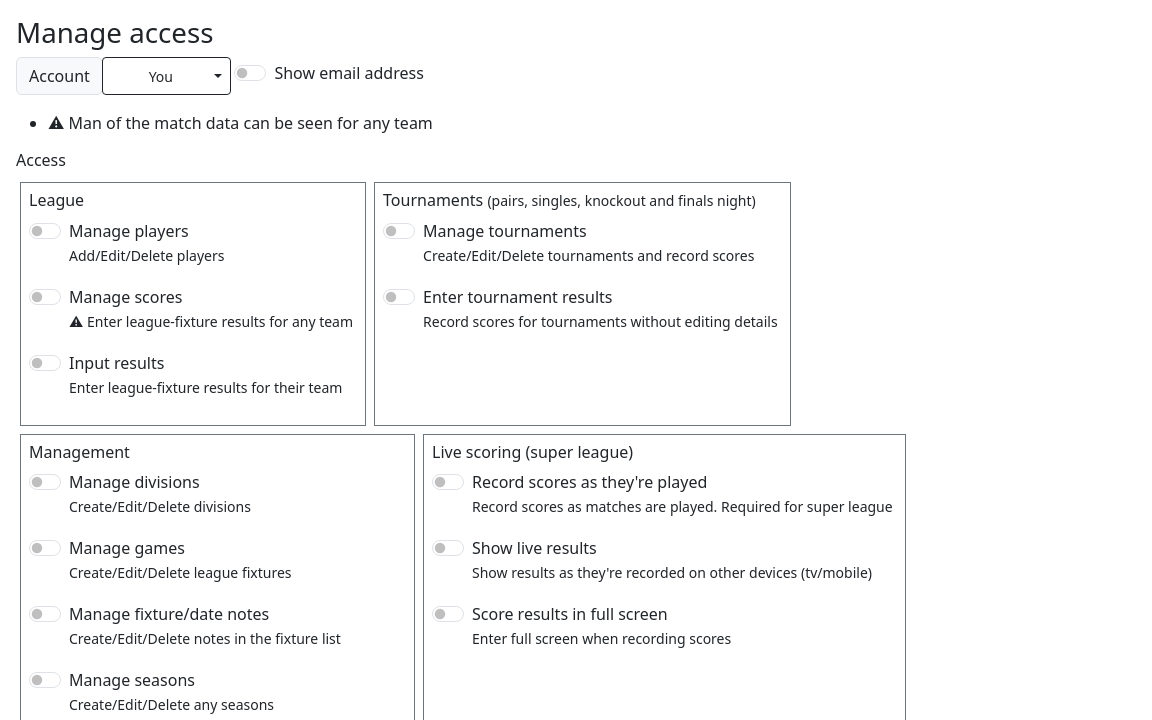
Test: UserAdmin › renders user email addresses
Click the checkbox with id "showEmailAddress" at (250, 73), box [234, 65, 266, 81]
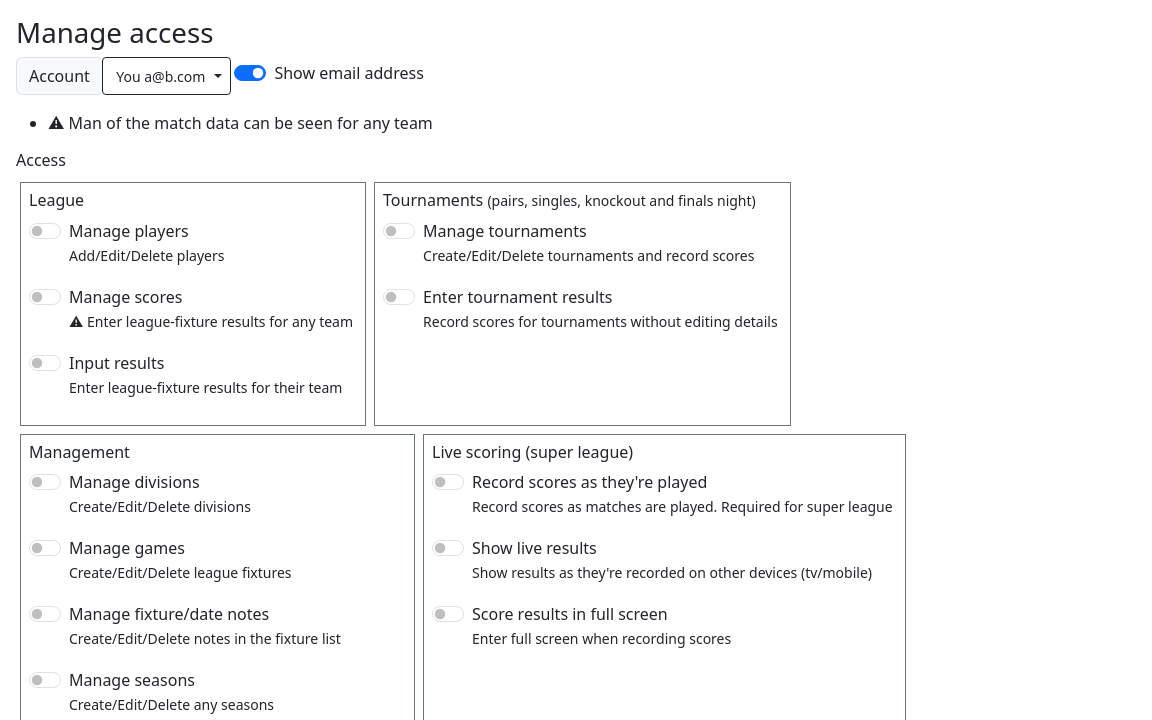
Check: the text "You a@b.com" is shown, box [111, 66, 211, 87]
